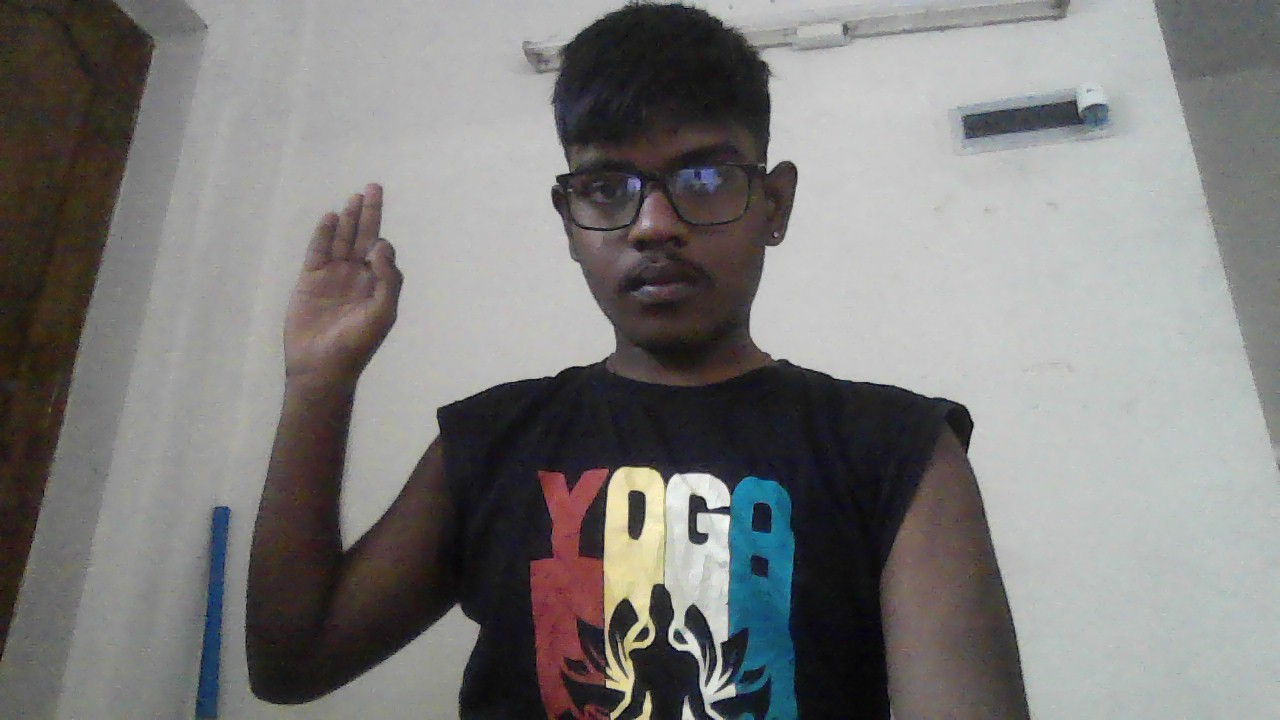F: (283, 184, 403, 380)
